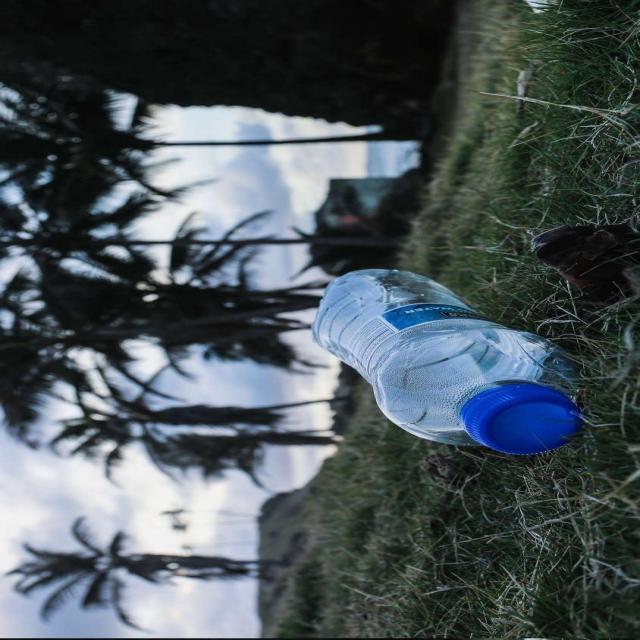bottle-plastic: (310, 266, 577, 454)
